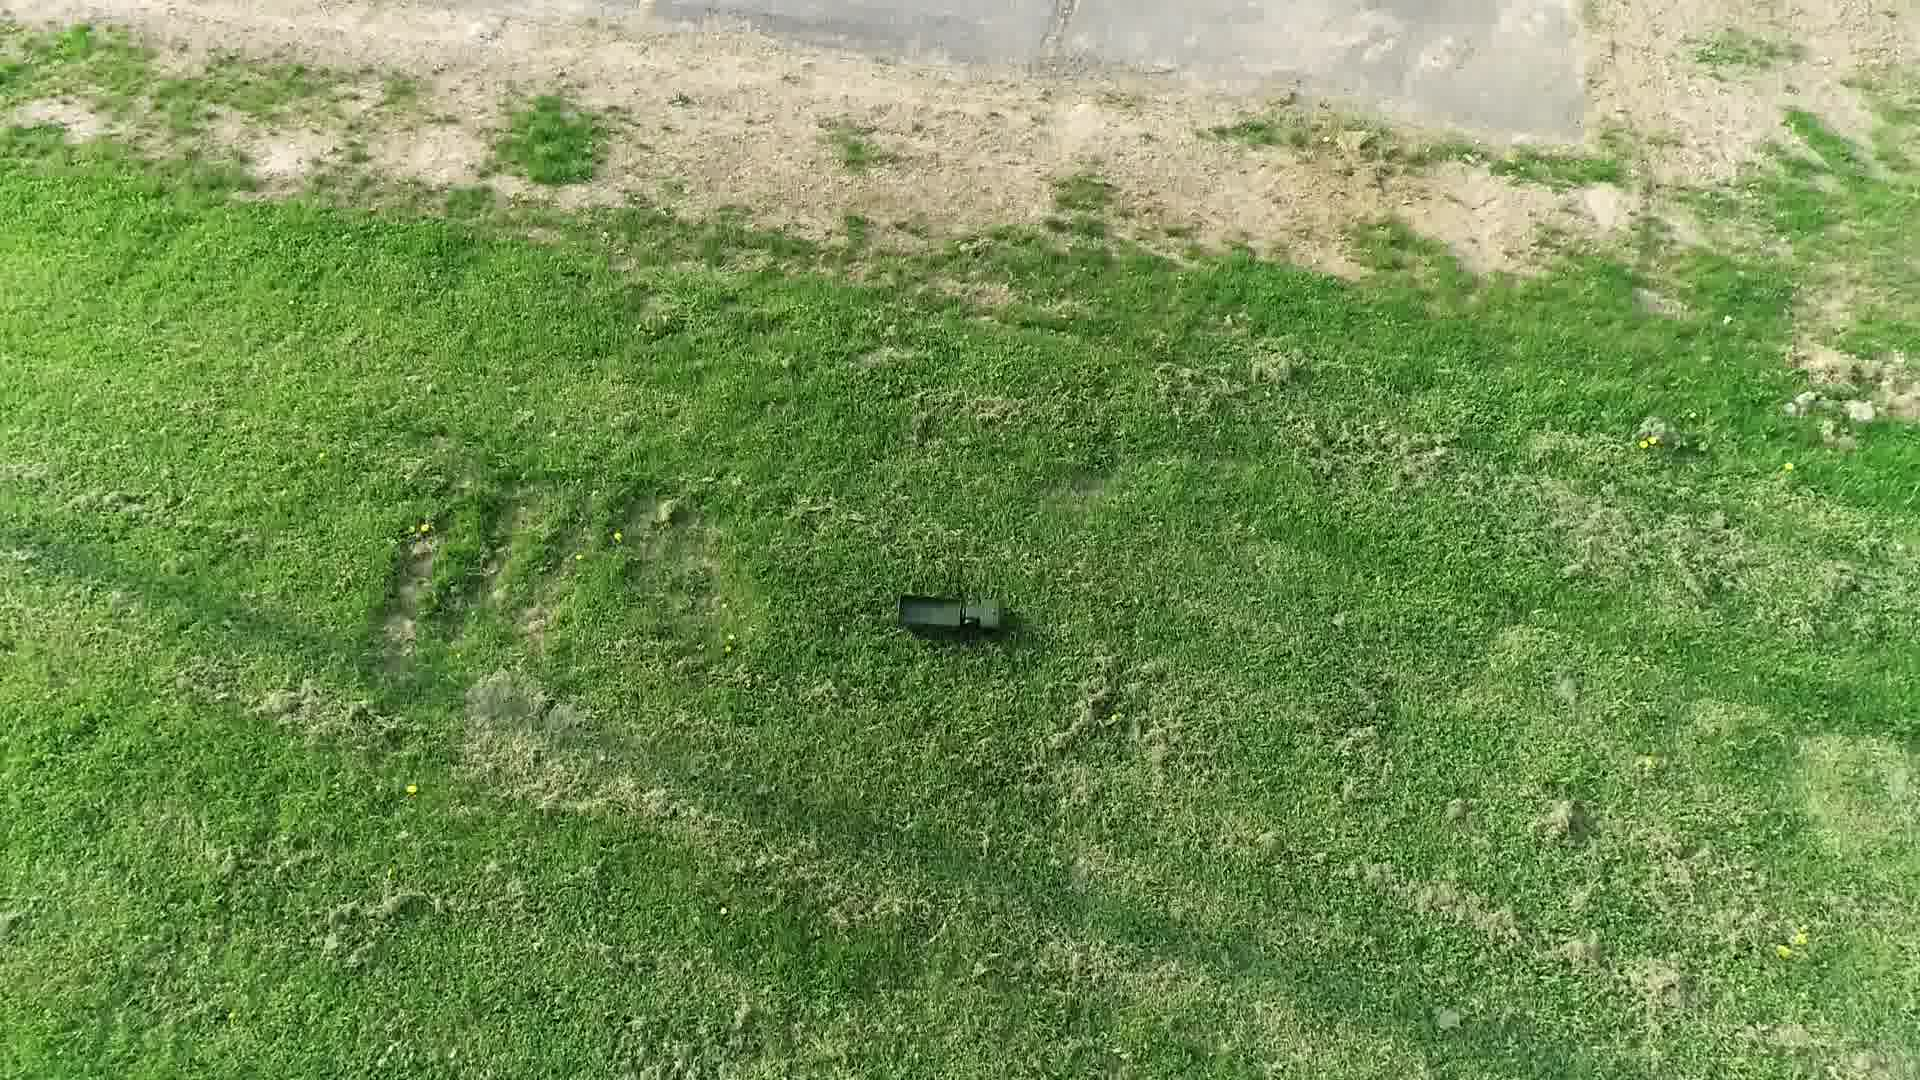transporter9: (889, 588, 1013, 640)
